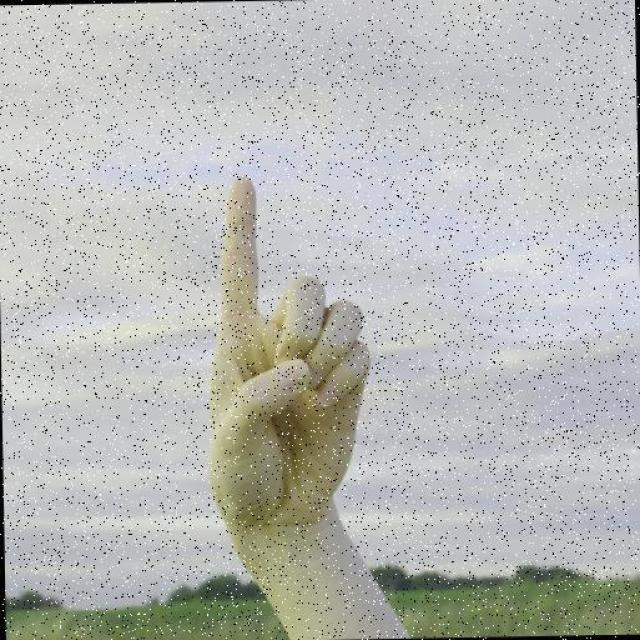D: (192, 162, 379, 538)
